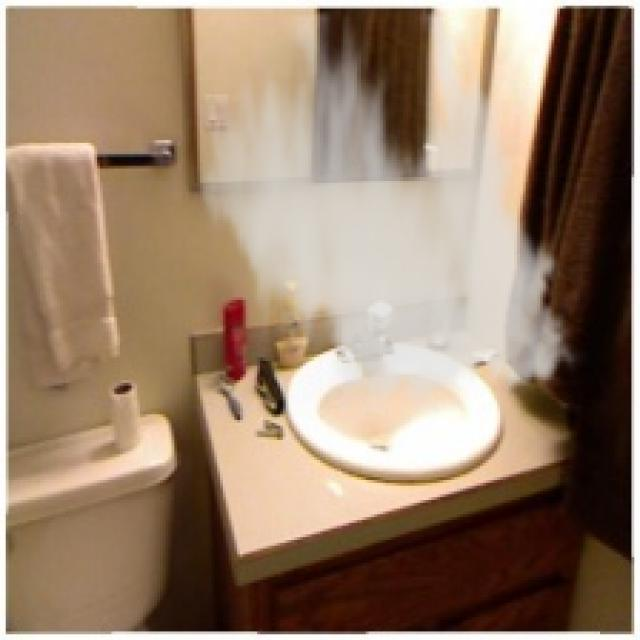Smoke: (188, 11, 586, 420)
